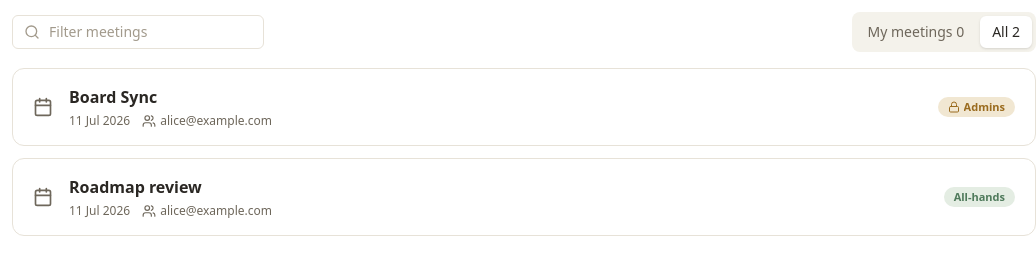
MeetingList scope toggle › says so when My meetings is empty
Click the tab "My meetings 0": (916, 32) [856,16,976,48]
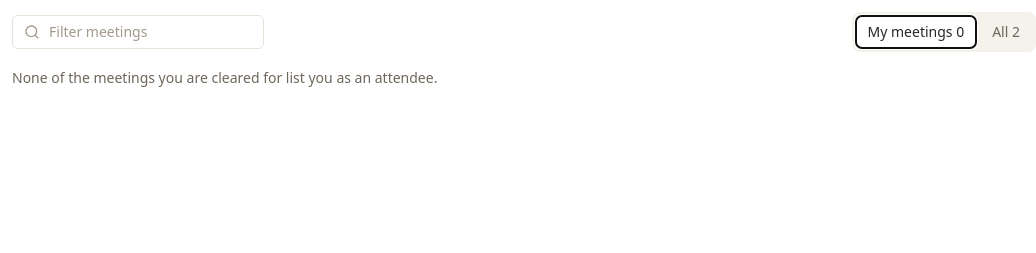
Expected: the text "None of the meetings you are cleared for list you as an attendee." is shown, [12,68,437,87]
